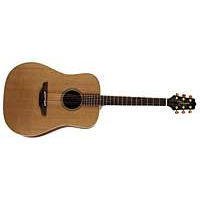guitar: (2, 62, 196, 139)
